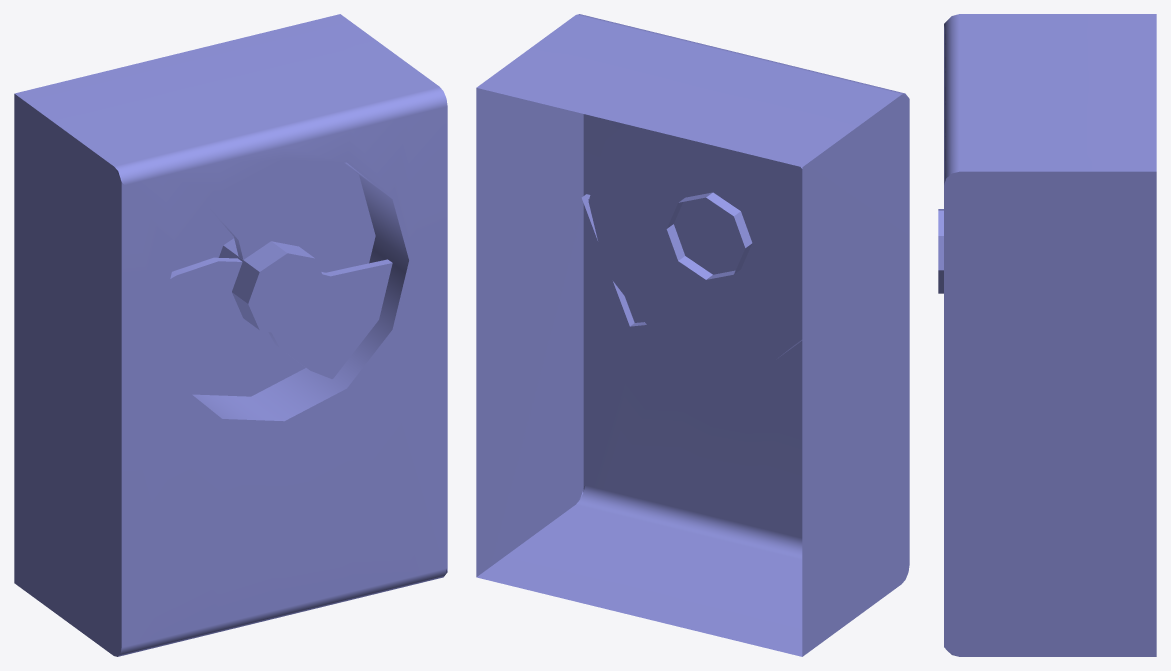
File: airvent.fbx
The picture shows the model from 3 angles, left to right: view 1: azimuth 30°, elevation 25°; view 2: azimuth 150°, elevation 25°; view 3: azimuth 270°, elevation 25°; orthographic projection.
Visible parts, largest first — view 1: airvent, blades1, blades2, blades, pivot_blades; view 2: airvent, pivot_blades, blades2; view 3: airvent, pivot_blades.
Part boxes in pixels (bbox=[...]): airvent: bbox=[14, 14, 447, 656]; blades1: bbox=[160, 257, 248, 391]; blades2: bbox=[268, 259, 392, 378]; blades: bbox=[210, 160, 317, 259]; pivot_blades: bbox=[219, 238, 326, 335]; airvent: bbox=[476, 14, 909, 656]; pivot_blades: bbox=[666, 192, 752, 279]; blades2: bbox=[581, 194, 646, 326]; airvent: bbox=[944, 14, 1156, 656]; pivot_blades: bbox=[938, 209, 943, 293].
Bounding box in the file's own units: 5.83 × 8.36 × 3.41.
